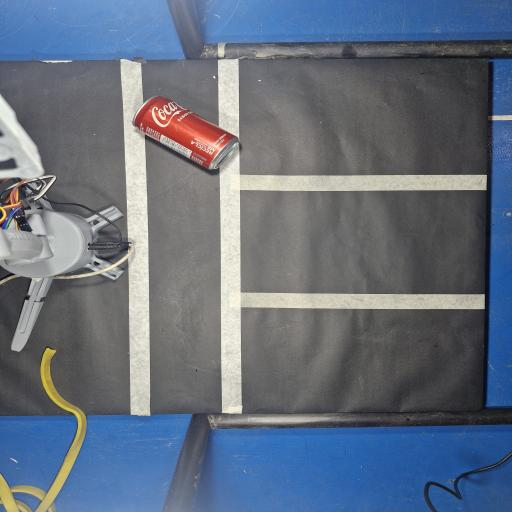lata: (133, 96, 238, 169)
